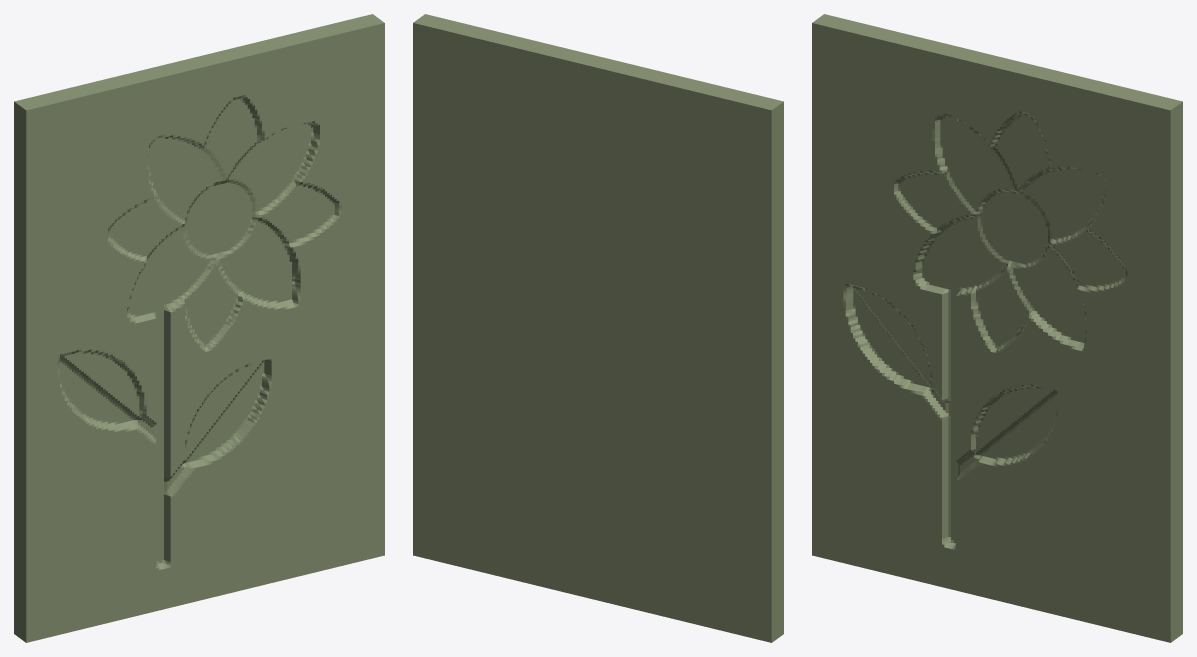
File: sunflower.glb
3 renders of one model, left to right at view 1: azimuth 30°, elevation 25°; view 2: azimuth 150°, elevation 25°; view 3: azimuth 330°, elevation 25°, orthographic.
Parts seen in each view (by area): view 1: Plane.034; view 2: Plane.034; view 3: Plane.034.
Part boxes in pixels (x1,y1,x2,y2): Plane.034: (14, 14, 384, 642); Plane.034: (413, 14, 783, 642); Plane.034: (812, 14, 1182, 642).
Bounding box in the file's own units: 4.1 × 5.82 × 0.2411.
